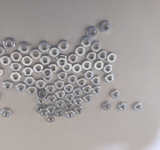nut: (30, 48, 42, 60), (58, 40, 70, 52), (81, 36, 92, 48), (4, 38, 15, 50), (22, 66, 34, 77), (39, 55, 51, 66), (87, 26, 97, 39), (100, 21, 111, 32), (0, 55, 11, 66), (19, 42, 30, 53), (39, 41, 50, 52), (91, 41, 102, 52), (97, 49, 108, 60), (91, 75, 102, 86), (2, 81, 14, 91), (10, 62, 22, 72), (10, 72, 22, 82), (56, 58, 68, 68), (50, 46, 60, 58), (1, 108, 12, 118), (101, 101, 112, 111), (117, 102, 128, 112), (110, 90, 121, 100), (33, 64, 44, 74), (107, 52, 117, 63), (84, 70, 95, 80), (22, 56, 33, 66), (11, 51, 21, 62), (24, 76, 35, 86), (48, 64, 59, 74), (42, 73, 53, 83), (75, 46, 86, 56), (72, 63, 83, 73), (83, 60, 93, 71), (92, 85, 103, 95), (133, 102, 143, 112), (16, 83, 26, 93), (87, 52, 97, 62), (55, 80, 65, 90), (94, 61, 104, 71), (27, 86, 37, 96), (68, 74, 78, 84), (36, 79, 46, 89), (58, 71, 68, 81), (63, 62, 73, 72), (65, 93, 75, 103), (82, 94, 93, 103), (57, 55, 68, 64), (74, 106, 85, 115), (76, 78, 87, 87), (105, 74, 115, 83), (45, 85, 55, 94), (68, 54, 78, 63), (73, 88, 83, 97), (74, 97, 83, 107), (103, 65, 114, 73), (36, 97, 47, 105), (47, 95, 56, 104), (65, 84, 74, 93), (37, 90, 46, 99), (55, 109, 64, 118), (47, 106, 56, 115), (40, 108, 49, 117), (36, 105, 45, 114), (83, 85, 92, 94), (46, 115, 56, 123), (55, 100, 65, 108), (42, 70, 52, 78), (55, 91, 65, 99), (66, 111, 75, 119), (65, 103, 73, 111), (0, 68, 5, 78), (0, 46, 5, 56)
